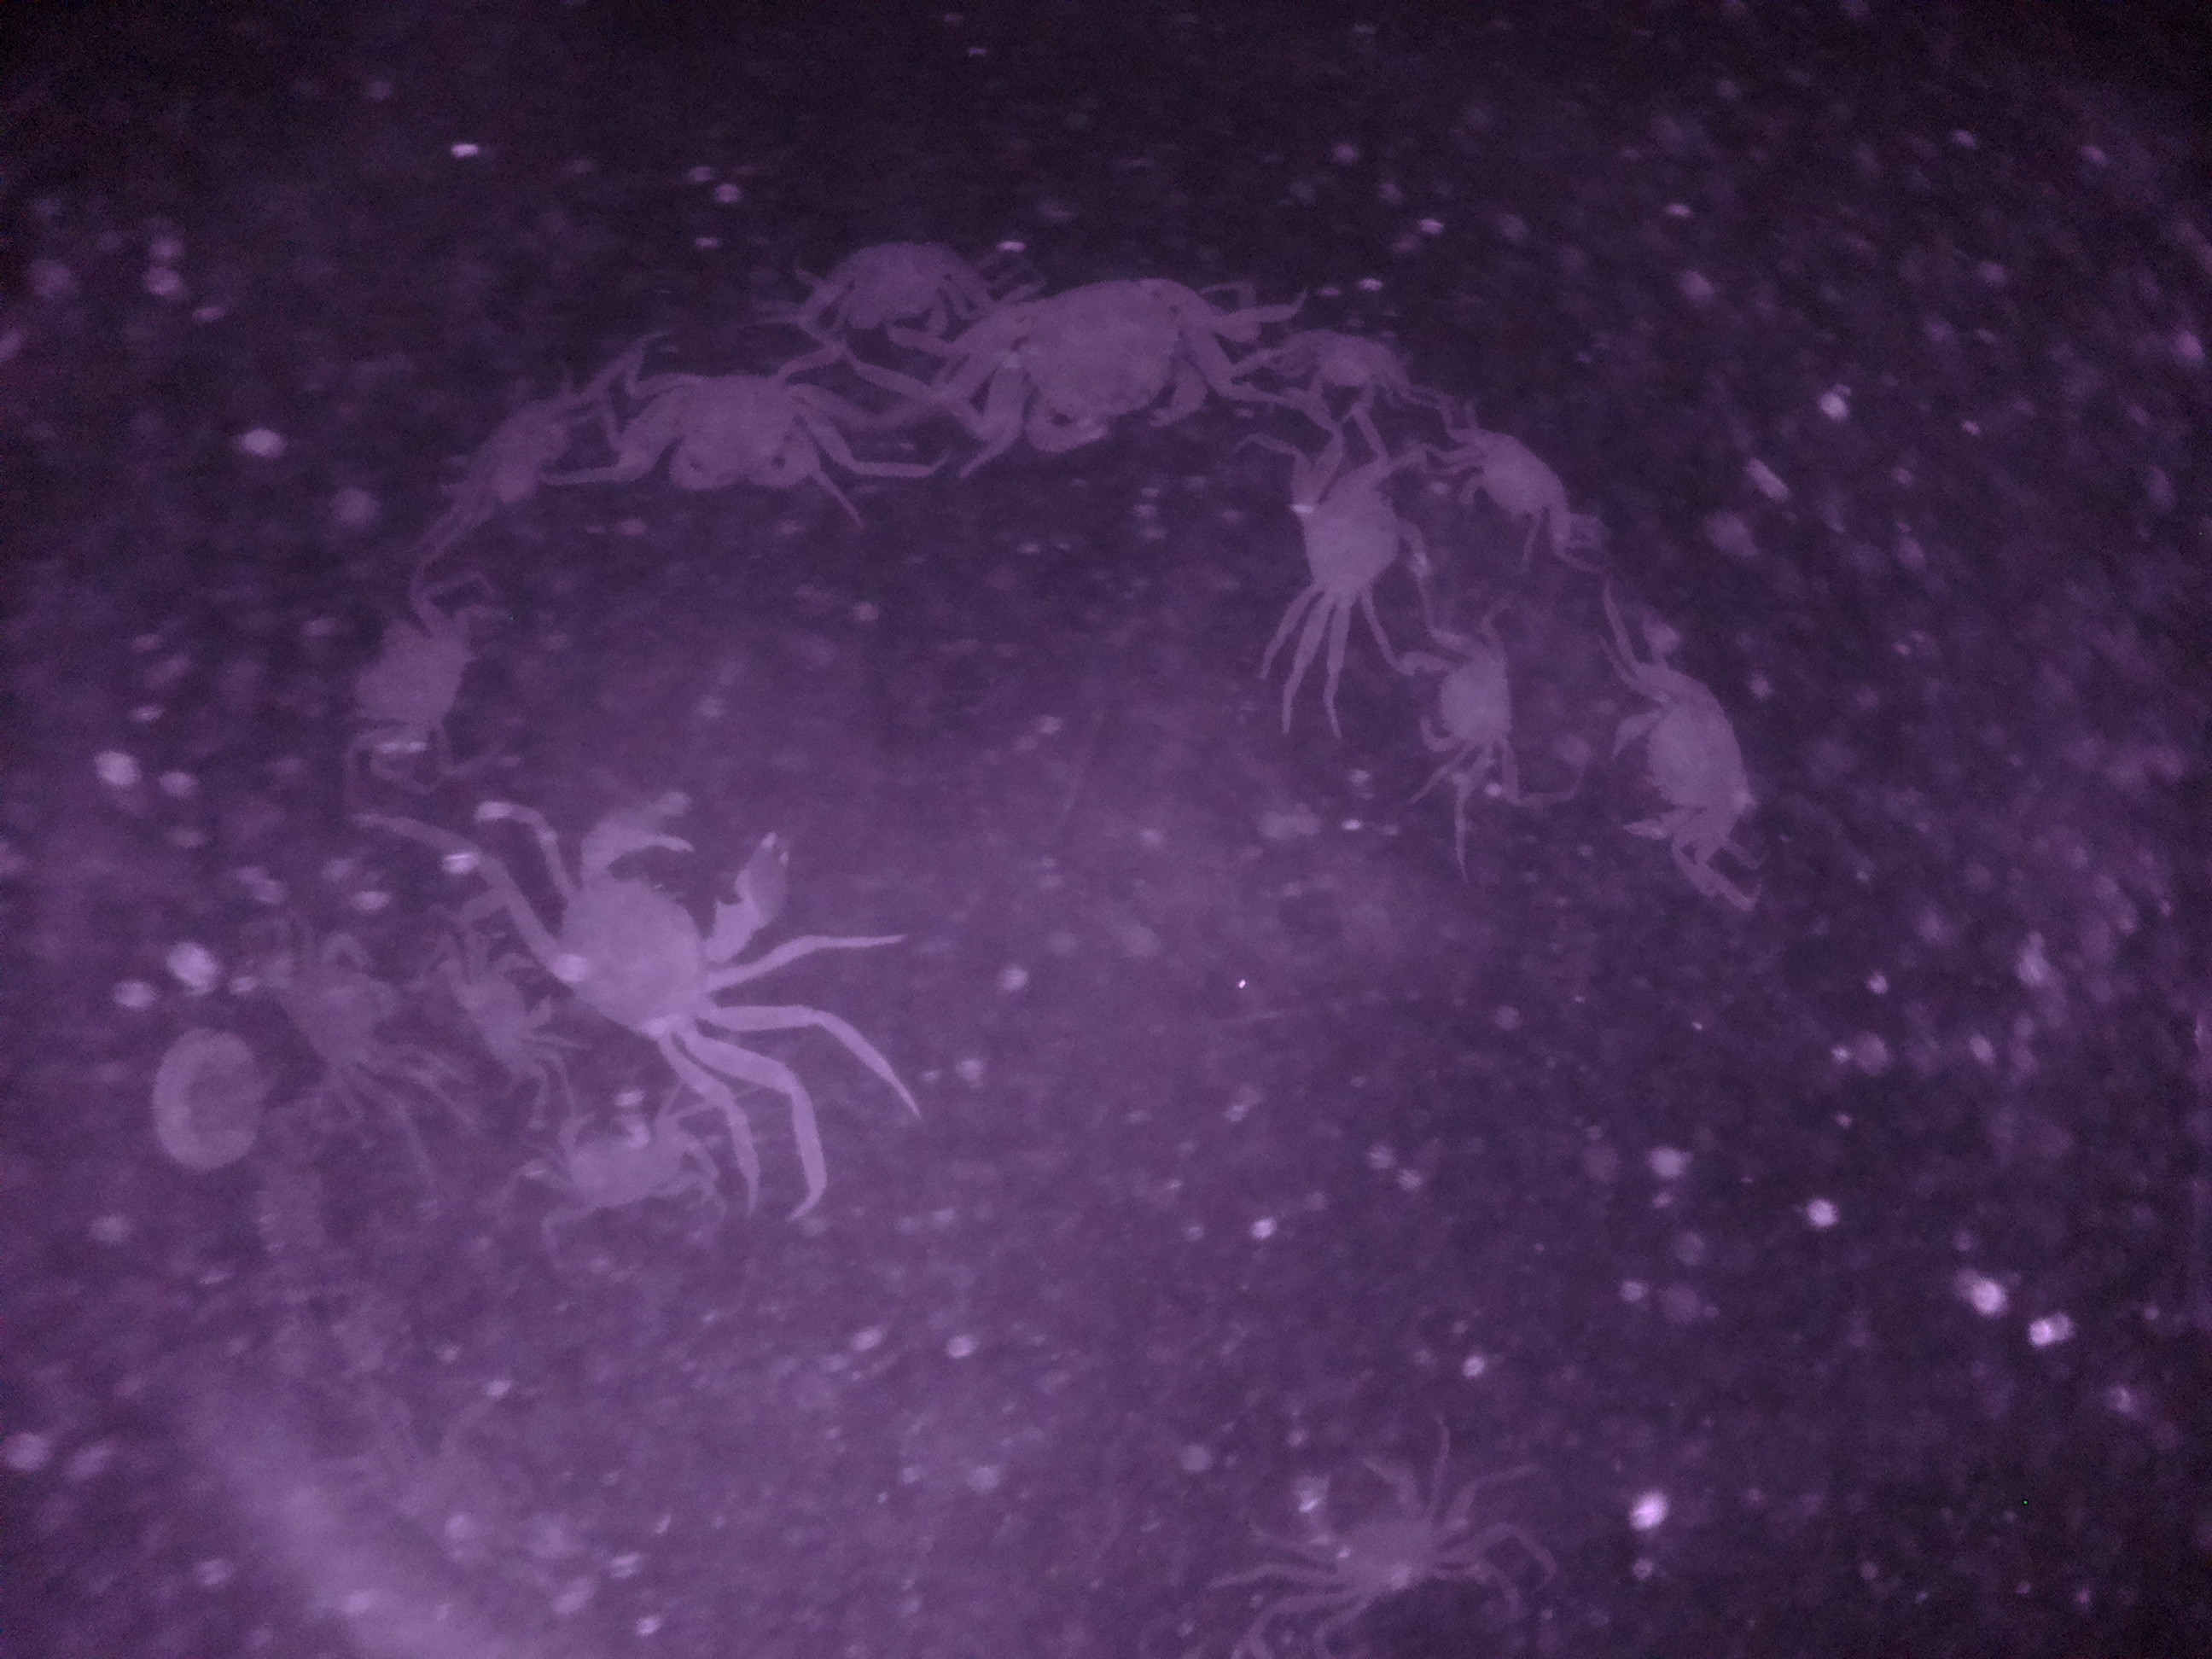Crab: (984, 258, 1228, 464), (611, 343, 855, 511), (1590, 660, 1768, 854), (1381, 605, 1536, 775), (1291, 437, 1435, 617), (536, 1093, 686, 1222)
